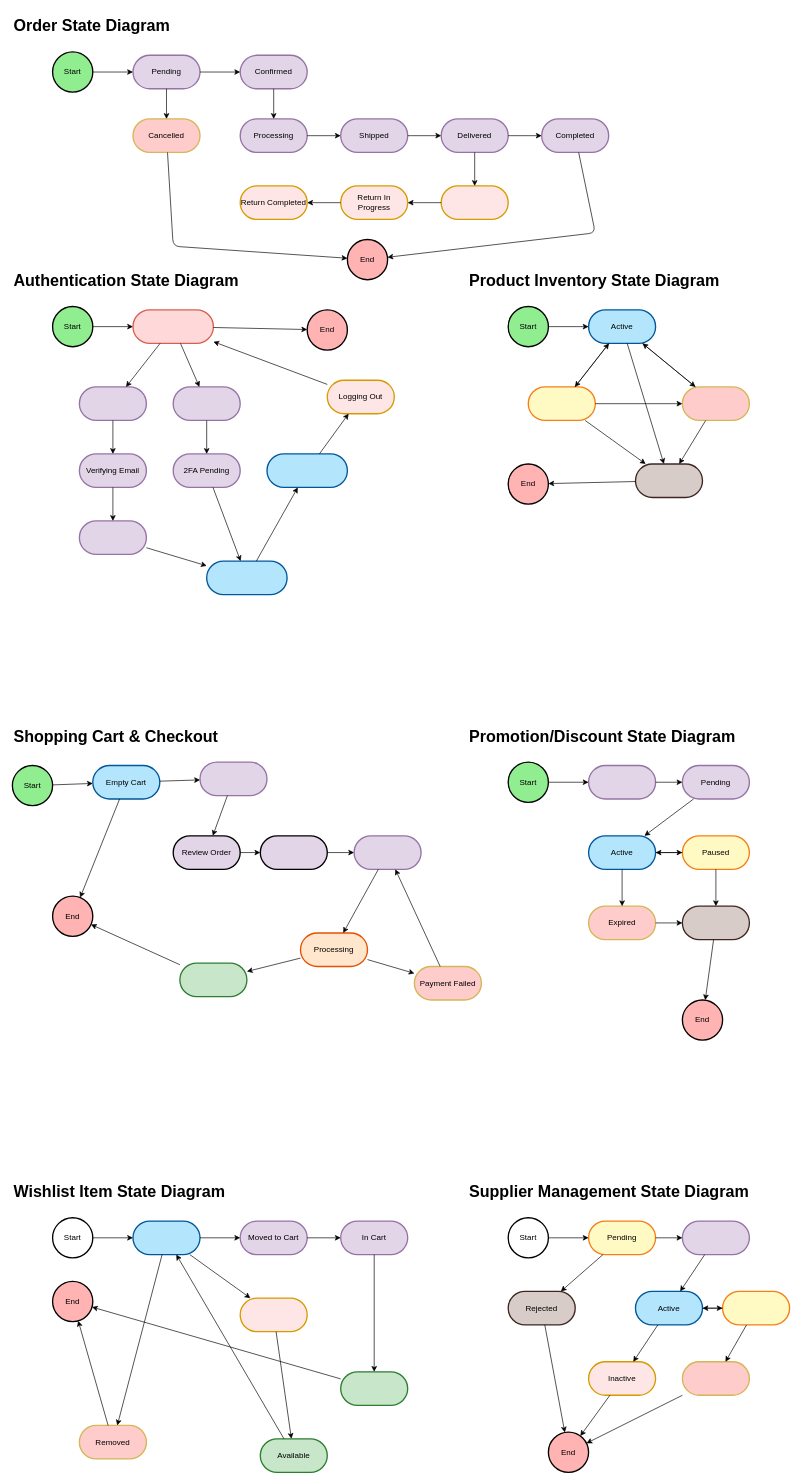
Image size: 801x1484. Some labels were removed from this diagram. Here are the shapes that lost their labels. From the top down, the centre of each, then its label:
At (x=474, y=202): "Return Requested".
At (x=173, y=326): "Not Authenticated".
At (x=112, y=403): "Registering".
At (x=206, y=403): "Logging In".
At (x=561, y=403): "Low Stock".
At (x=715, y=403): "Out of Stock".
At (x=307, y=470): "Session Active".
At (x=668, y=480): "Discontinued".
At (x=112, y=537): "Email Verified".
At (x=246, y=577): "Authenticated".
At (x=233, y=778): "Active Cart".
At (x=622, y=781): "Draft".
At (x=293, y=852): "Shipping Info".
At (x=387, y=852): "Payment Info".
At (x=715, y=922): "Archived".
At (x=213, y=979): "Order Confirmed".
At (x=166, y=1237): "Added".
At (x=715, y=1237): "Verified".
At (x=273, y=1314): "Not Available".
At (x=756, y=1307): "Suspended".
At (x=374, y=1388): "Purchased".
At (x=715, y=1378): "Blocked".
